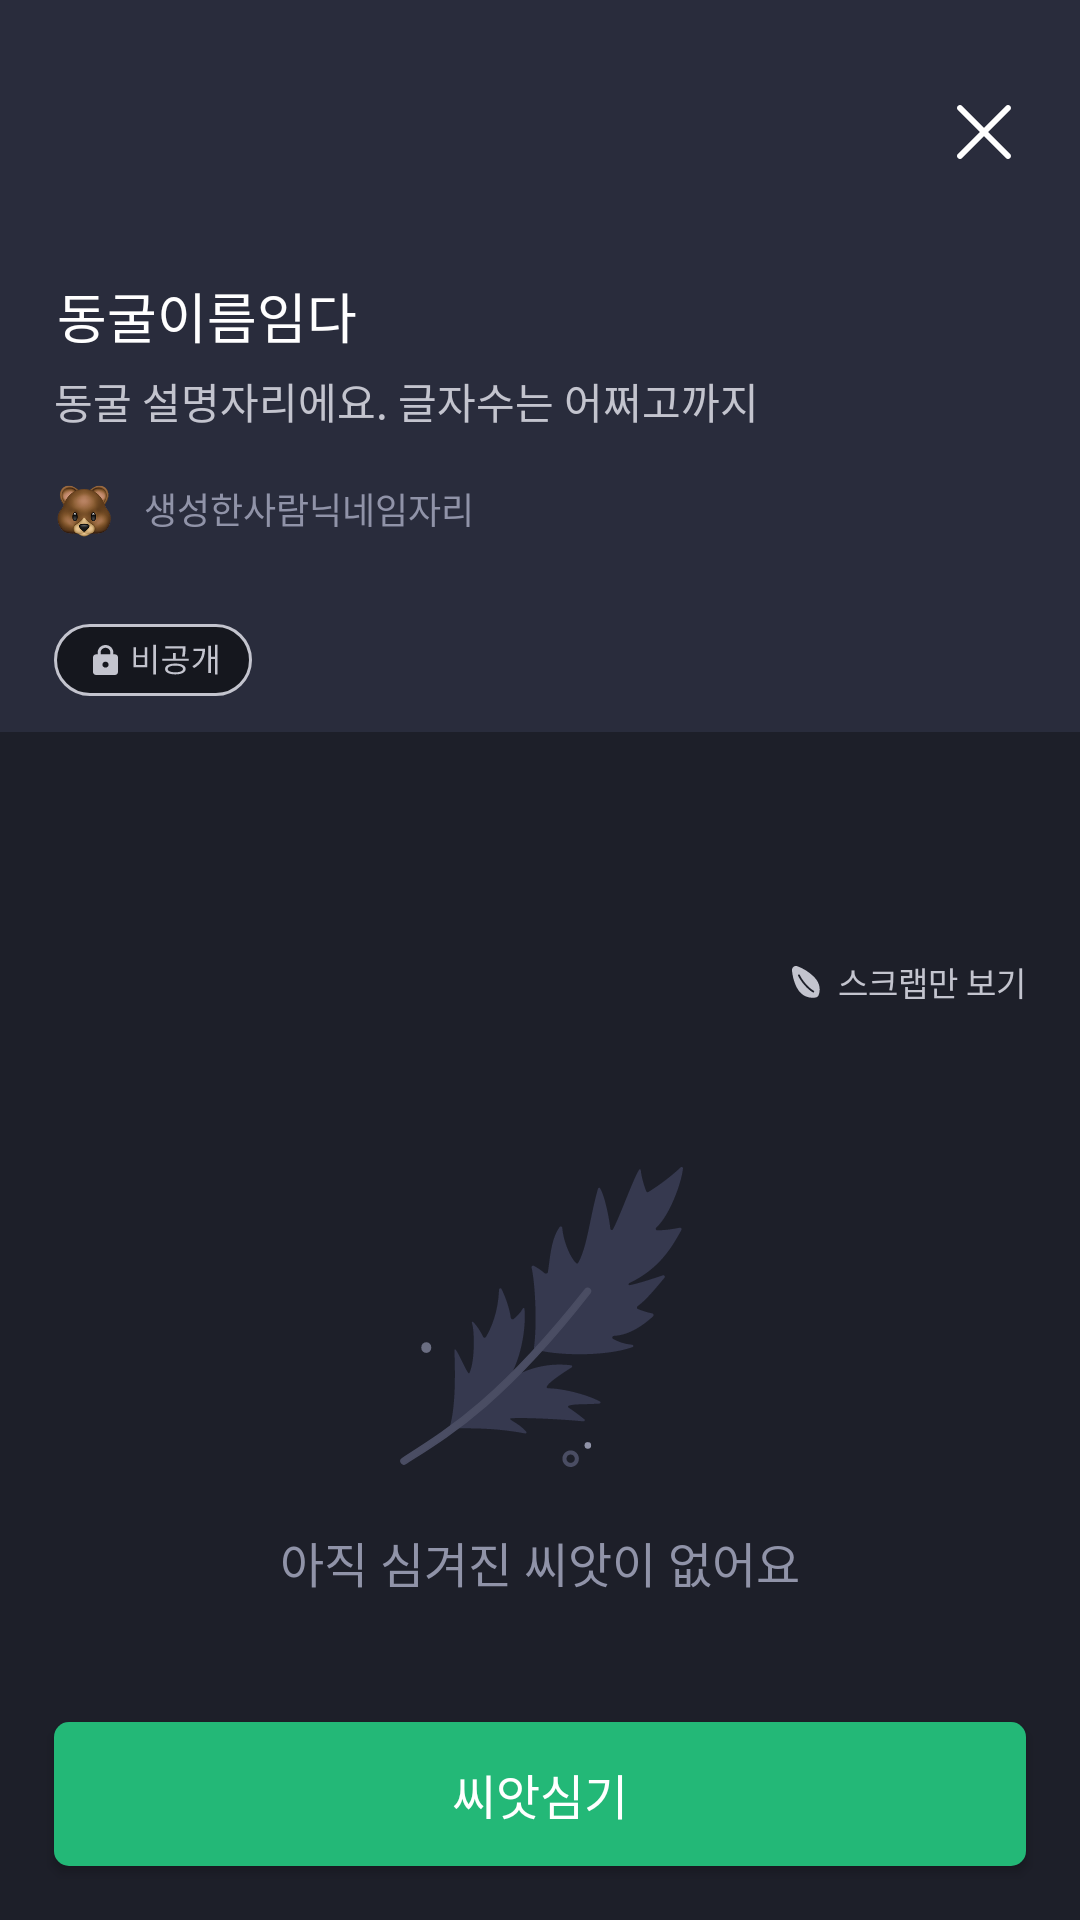

Icon bounding boxes for this 1080 × 1920 phone screenshot, format detection(x1, y1, x2, y2):
bear: detection(58, 486, 111, 537)
create storage close: detection(957, 105, 1011, 159)
